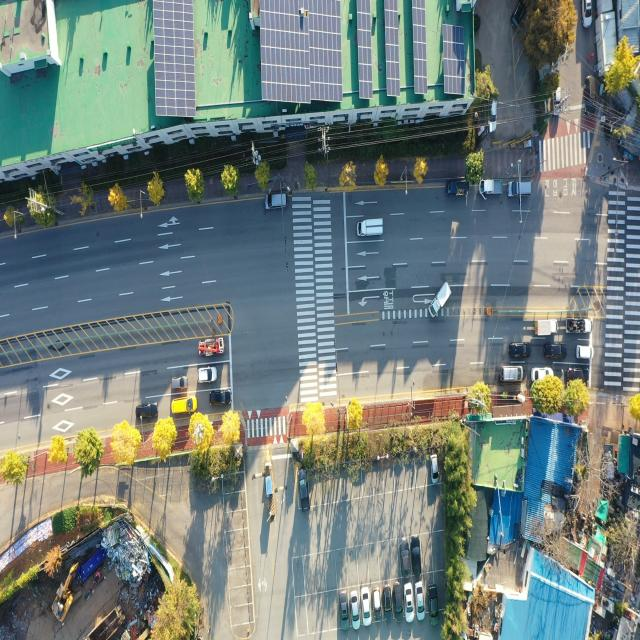car: (498, 364, 526, 387), (563, 367, 591, 387), (134, 401, 158, 422), (299, 471, 311, 511), (173, 399, 199, 416), (506, 183, 531, 200), (532, 366, 555, 383), (266, 194, 288, 211), (399, 539, 409, 576), (510, 0, 523, 28), (428, 584, 437, 624), (210, 390, 232, 406), (394, 584, 403, 620), (489, 98, 498, 133), (384, 586, 393, 620), (198, 368, 217, 384), (543, 344, 563, 359), (412, 546, 422, 576), (407, 582, 415, 619), (362, 588, 370, 625), (341, 595, 349, 630), (554, 87, 563, 117), (511, 344, 530, 358), (576, 345, 593, 360), (417, 584, 424, 620), (351, 592, 358, 626), (430, 455, 438, 484), (584, 0, 592, 28), (372, 586, 379, 617), (172, 378, 188, 391)
medium_truck: (82, 602, 128, 640)
small_truck: (430, 284, 452, 319), (357, 215, 384, 239), (533, 315, 559, 338), (198, 339, 226, 359), (585, 74, 596, 119), (565, 320, 592, 338), (481, 182, 505, 201), (446, 180, 469, 197)
